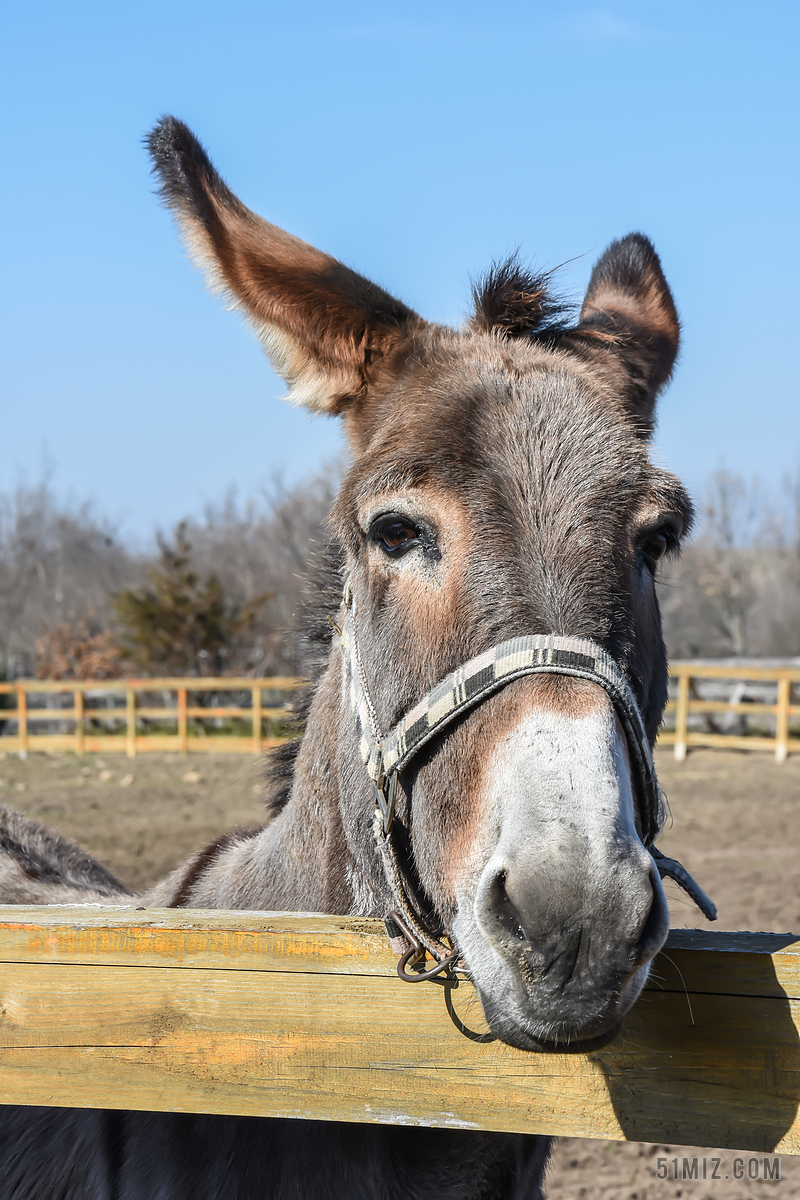background: (1, 100, 727, 1200)
